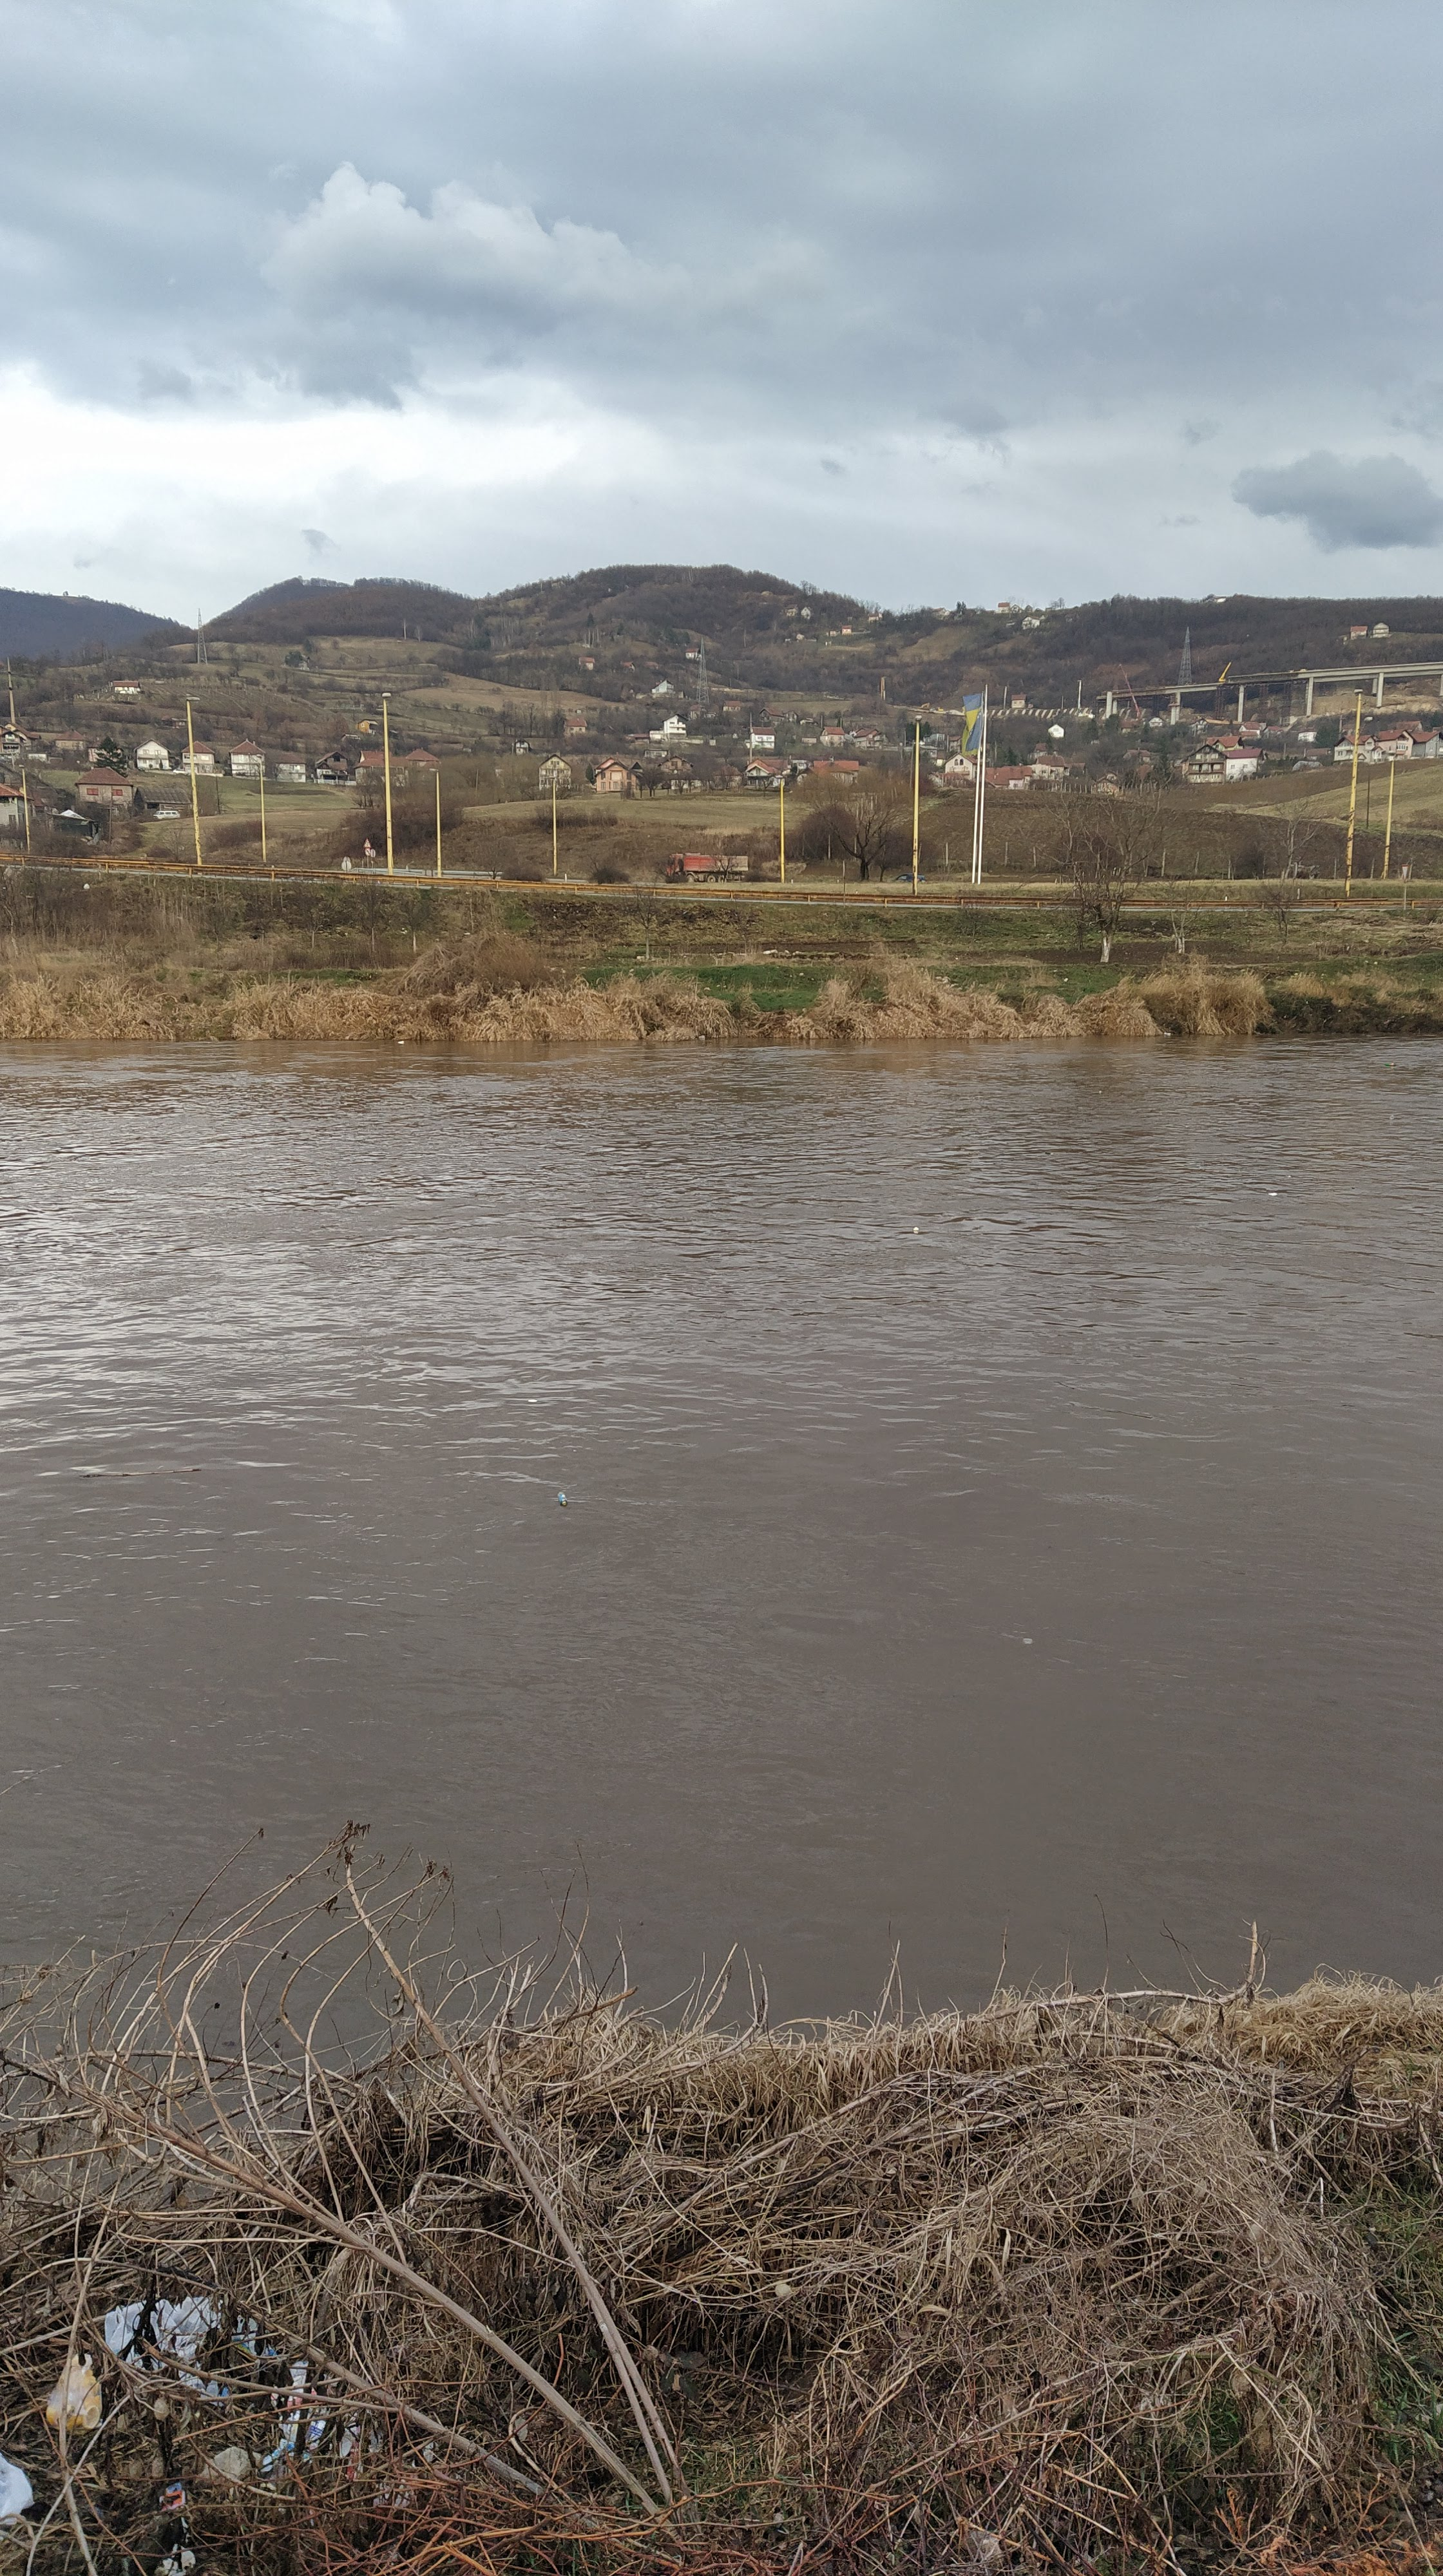Plastic Bottle: (558, 1491, 567, 1506), (397, 1040, 404, 1044), (1163, 1031, 1170, 1035), (699, 1035, 705, 1039), (1390, 1116, 1393, 1120), (1386, 1063, 1393, 1065)
